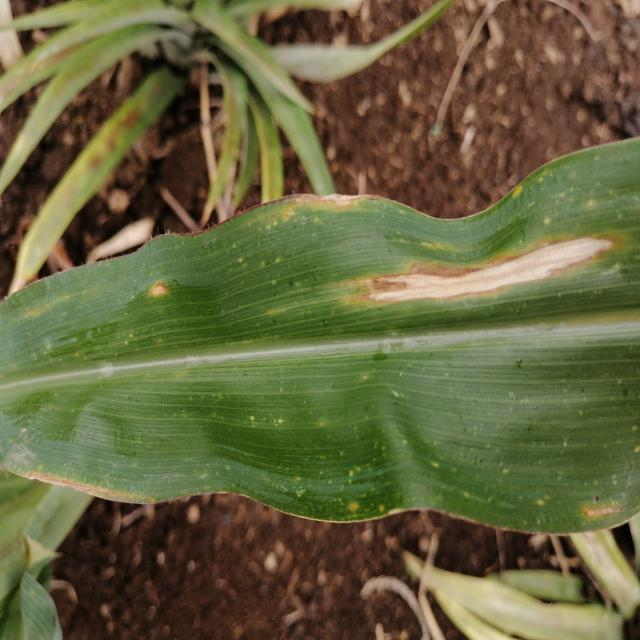Corn_Leaf_Blight: (0, 132, 640, 534)
